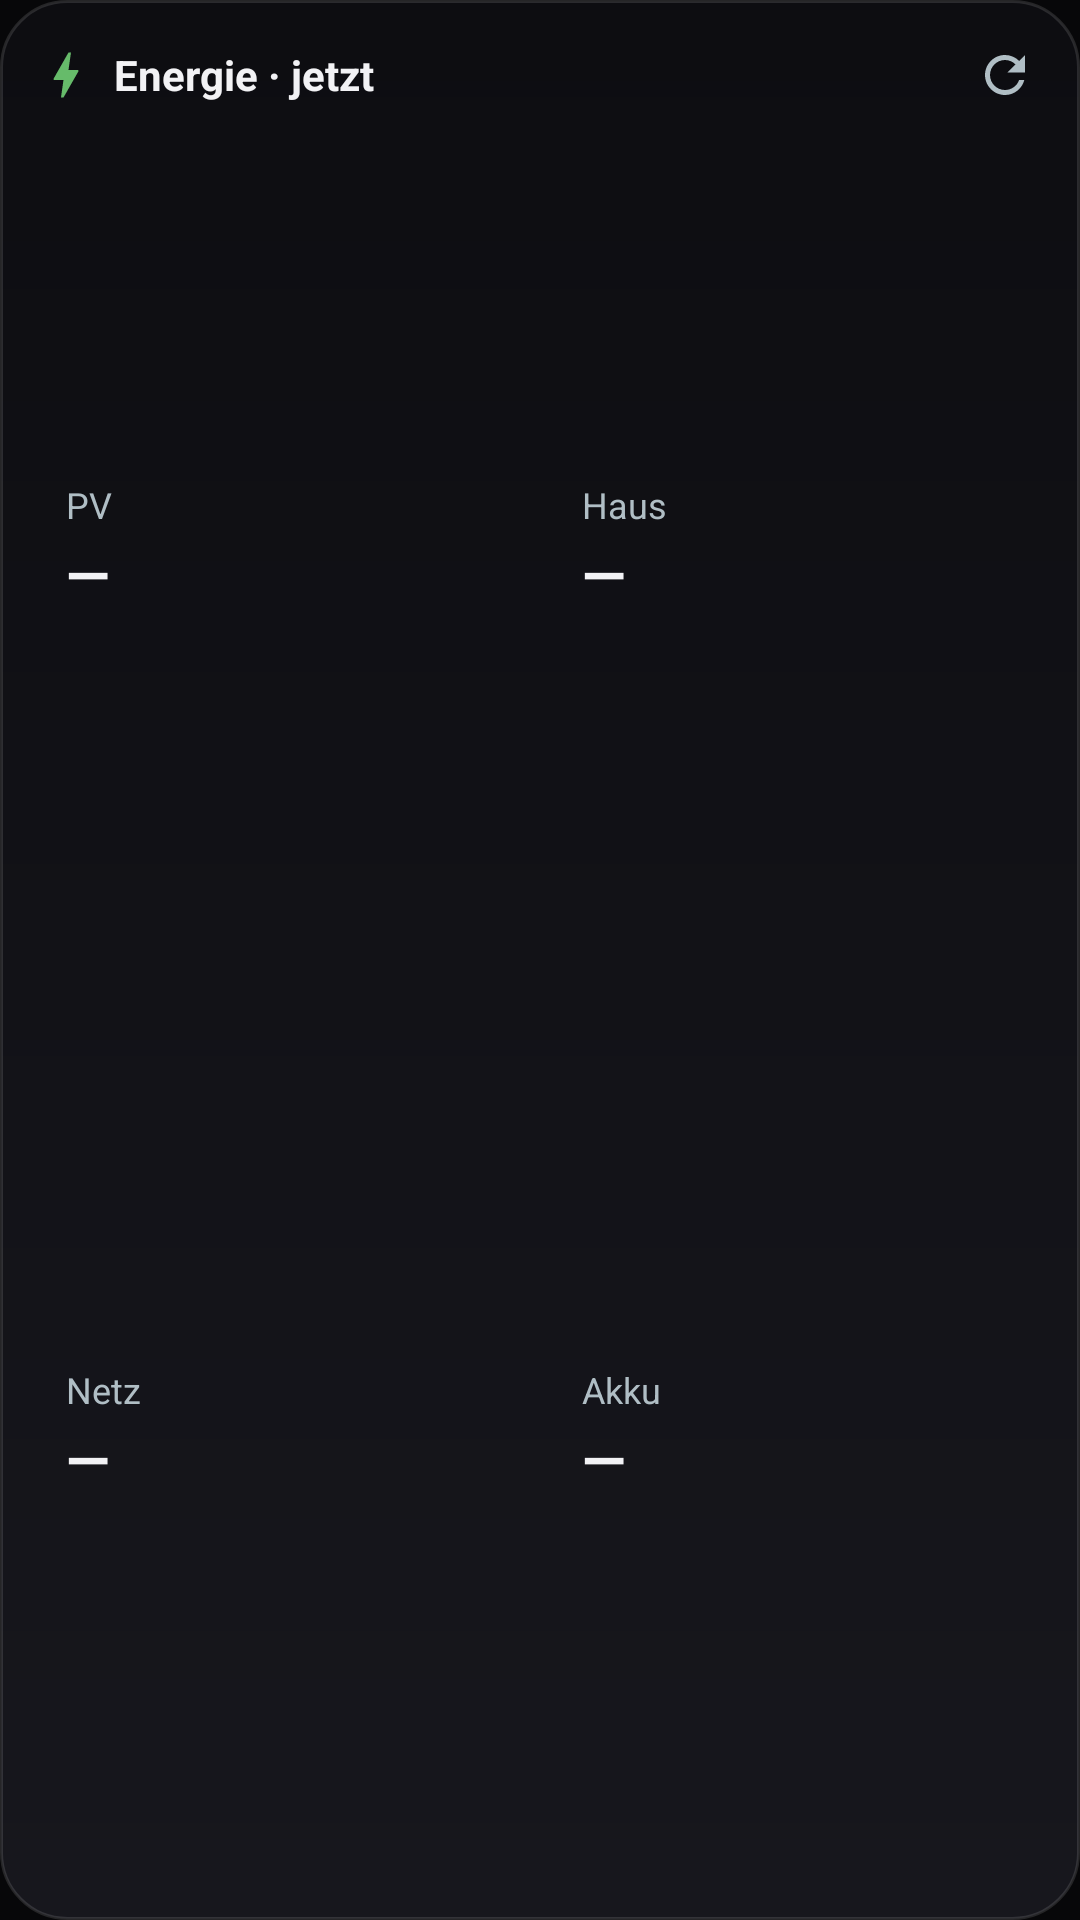

Point at icon controls on the screen. Image size 1080px×1920px, points as (x,y).
Aktualisieren: (1005,75)
bolt: (66,75)
